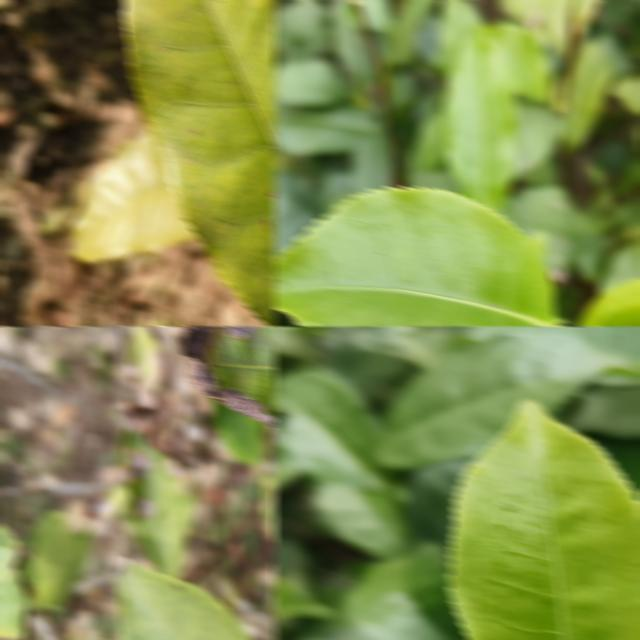Leaf: (122, 0, 277, 326), (448, 401, 640, 640), (273, 186, 558, 326), (376, 337, 586, 469), (69, 130, 196, 261), (273, 369, 387, 491), (442, 31, 518, 211), (341, 543, 470, 640), (119, 429, 198, 576), (115, 562, 253, 640), (470, 326, 640, 376), (498, 185, 592, 272), (312, 477, 409, 557), (19, 509, 94, 607), (561, 38, 615, 152), (273, 101, 382, 154), (479, 23, 552, 100), (273, 59, 349, 107), (211, 400, 268, 463), (385, 0, 441, 64), (273, 190, 317, 258), (0, 571, 30, 640), (0, 523, 21, 583), (259, 476, 277, 543)
